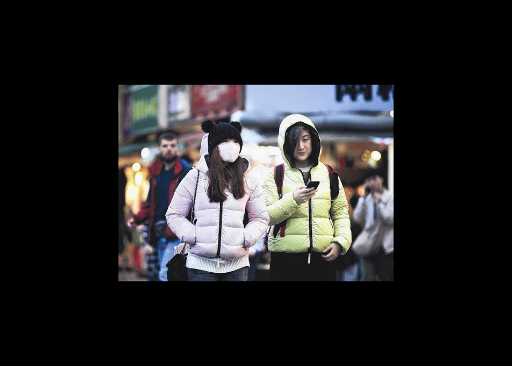with_mask: (217, 138, 239, 162)
without_mask: (293, 133, 311, 160), (160, 141, 177, 160)
